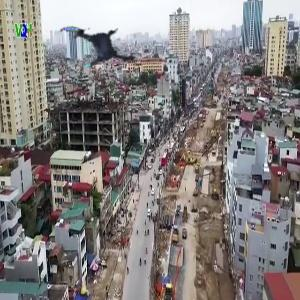drone: (59, 11, 133, 85)
